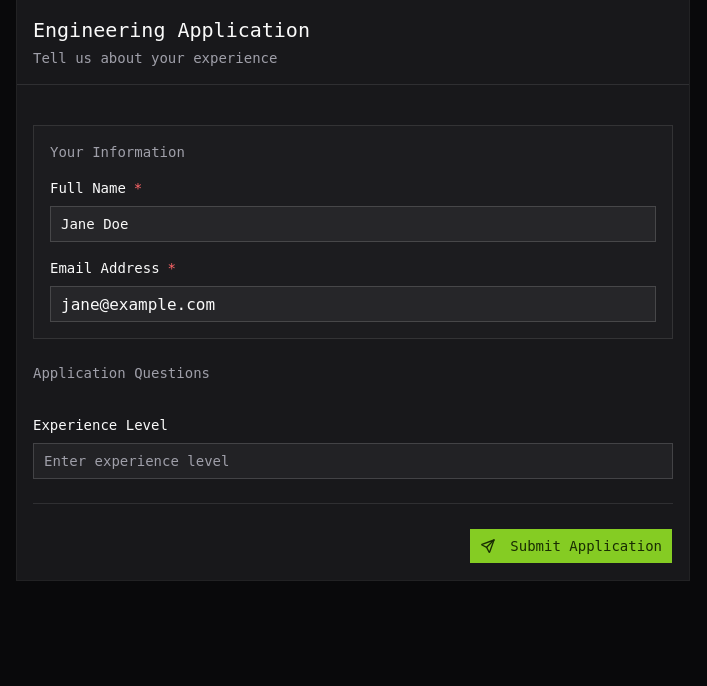
Test: ApplyForm integration › prefills applicant info and toggles conditional fields
Check: the field labelled "Full Name *" holds "Jane Doe", box [50,206,656,242]
Check: the field labelled "Email Address *" holds "jane@example.com", box [50,286,656,322]
In the field labelled "Experience Level": (353, 461) [33,443,673,479], type "Senior"
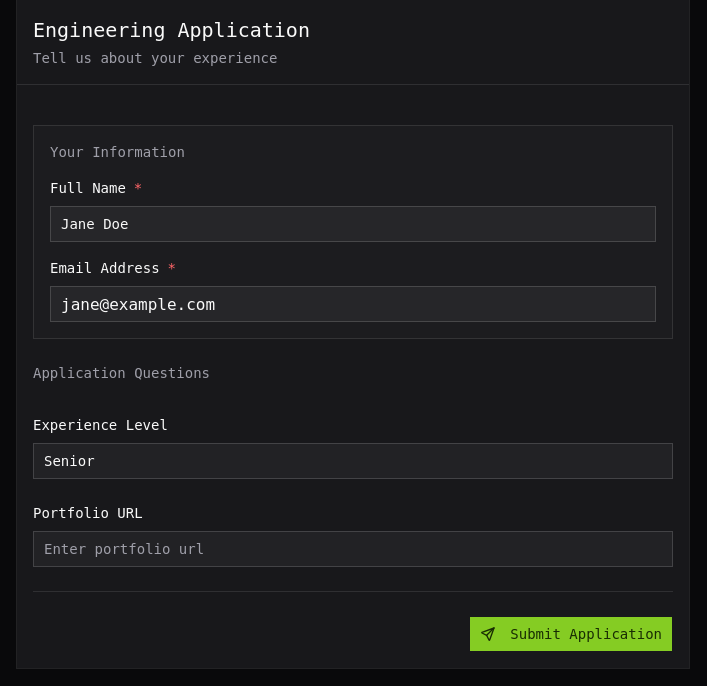
Check: the field labelled "Portfolio URL" is shown, box [33,531,673,567]
Replace the text in the field labelled "Experience Level" with "Junior": (353, 461) [33,443,673,479]
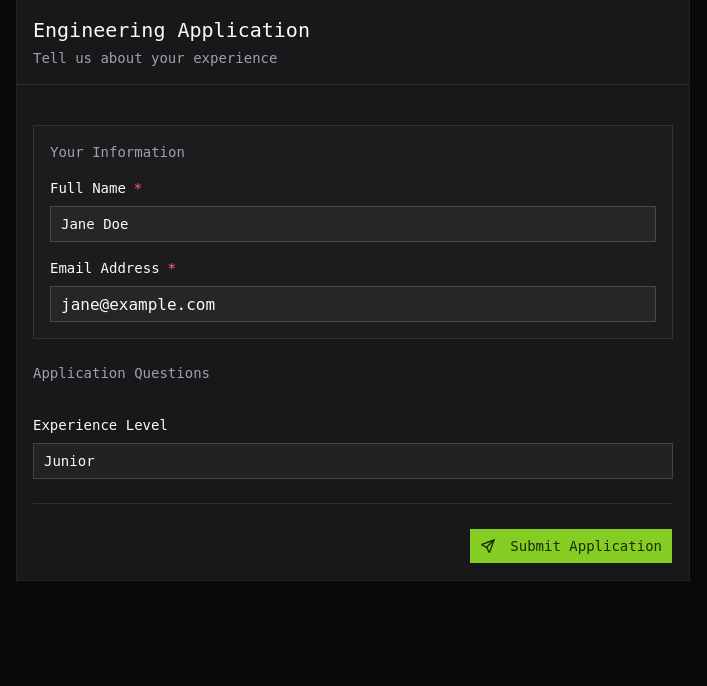
Check: the label labelled "Portfolio URL" is gone
